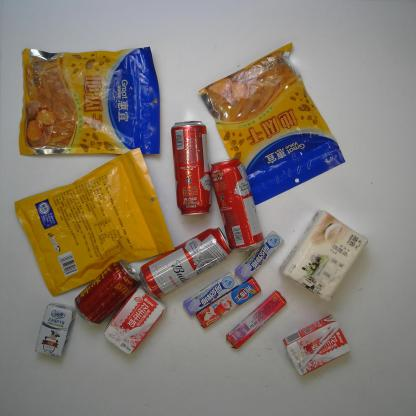Alcohol: (139, 227, 234, 298), (207, 157, 266, 254), (170, 119, 213, 217)
Candy: (224, 290, 286, 350), (196, 276, 260, 329), (182, 270, 238, 317), (234, 231, 284, 283)
Dried Fruit: (13, 147, 176, 299), (197, 42, 345, 208), (16, 46, 162, 160)
Drink: (74, 258, 142, 326)
Milk: (102, 285, 165, 356), (282, 314, 352, 377), (33, 301, 77, 360)
Tissue: (278, 208, 368, 302)
